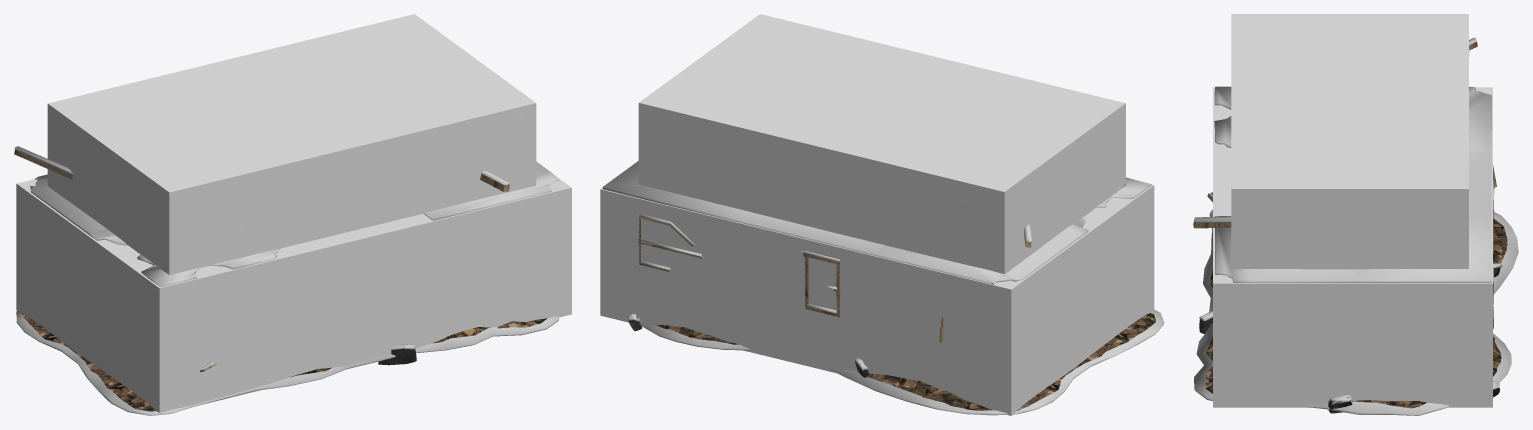
The model's file is House-Type03.fbx.
3 views of the same model, side by side, from view 1: azimuth 30°, elevation 25°; view 2: azimuth 150°, elevation 25°; view 3: azimuth 270°, elevation 25° (orthographic). The views are drawn at different scales.
Visible parts, largest first — view 1: House-Type03_col, snow, House-Type03; view 2: House-Type03_col, snow, House-Type03; view 3: House-Type03_col, snow, House-Type03.
Part boxes in pixels (<box>): House-Type03_col: <box>16,14,571,412</box>; snow: <box>15,112,559,415</box>; House-Type03: <box>14,150,547,411</box>; House-Type03_col: <box>600,14,1154,415</box>; snow: <box>602,161,1164,415</box>; House-Type03: <box>628,216,1155,410</box>; House-Type03_col: <box>1213,14,1492,407</box>; snow: <box>1194,37,1518,415</box>; House-Type03: <box>1193,42,1507,413</box>.
Bounding box in the file's own units: 614 × 283 × 389.
